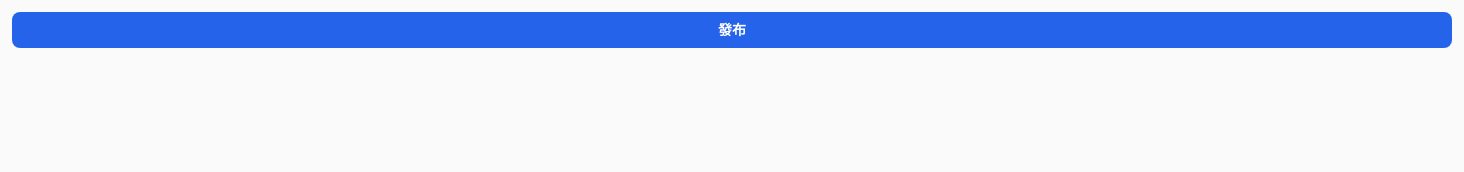
Test: PublishPanel — 一鍵發布 + 備份確認 › shows error message on publish failure
Click the button "發布": (732, 30) left=12, top=12, right=1452, bottom=48
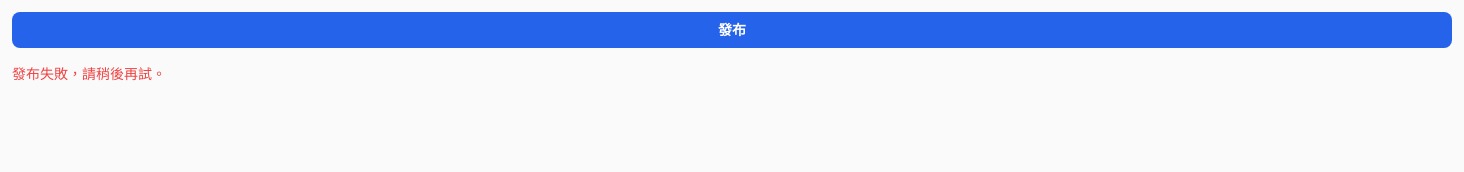
Result: the text "發布失敗，請稍後再試。" is shown at left=12, top=64, right=166, bottom=83
